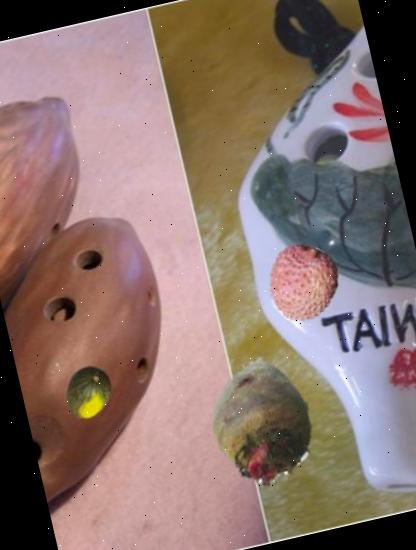Beetroot: (182, 341, 342, 501)
Lychee: (255, 236, 349, 330)
Melon: (58, 360, 120, 422)
